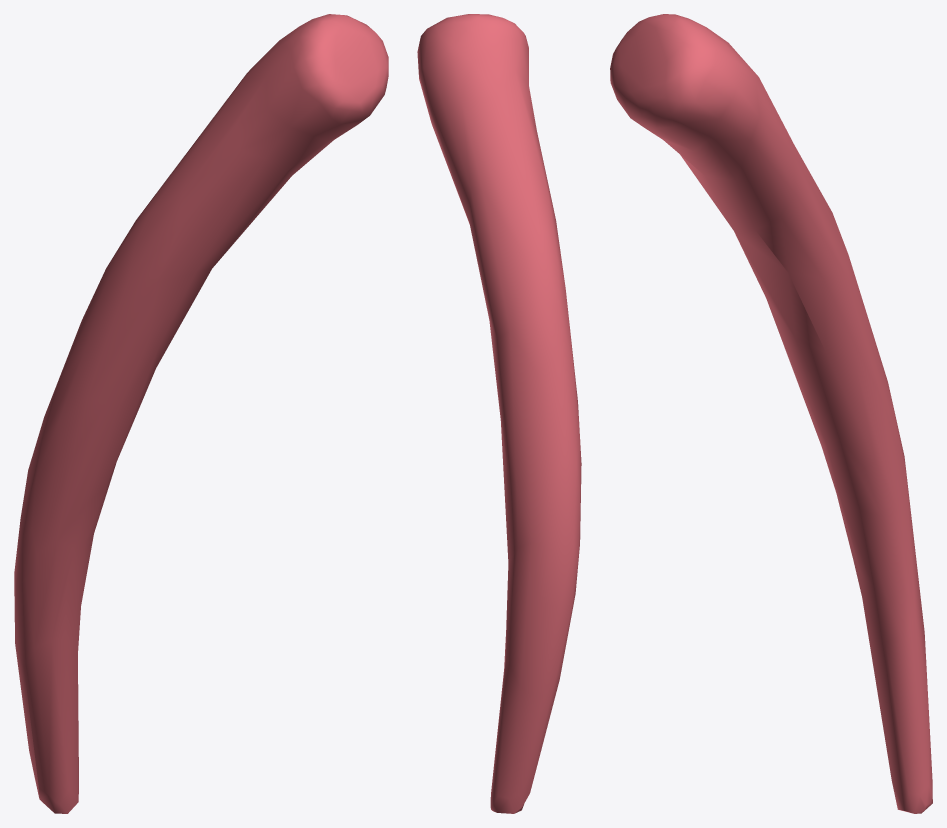
File: fma8642_fj2891.glb
3 renders of one model, left to right at view 1: azimuth 30°, elevation 25°; view 2: azimuth 150°, elevation 25°; view 3: azimuth 270°, elevation 25°, orthographic. The views are drawn at different scales.
Visible parts, largest first — view 1: FMA8642_FJ2891; view 2: FMA8642_FJ2891; view 3: FMA8642_FJ2891.
Part boxes in pixels (x1,y1,x2,y2): FMA8642_FJ2891: (14, 14, 388, 813); FMA8642_FJ2891: (417, 14, 581, 813); FMA8642_FJ2891: (610, 14, 932, 813).
Bounding box in the file's own units: 0.014 × 0.0407 × 0.0137.
